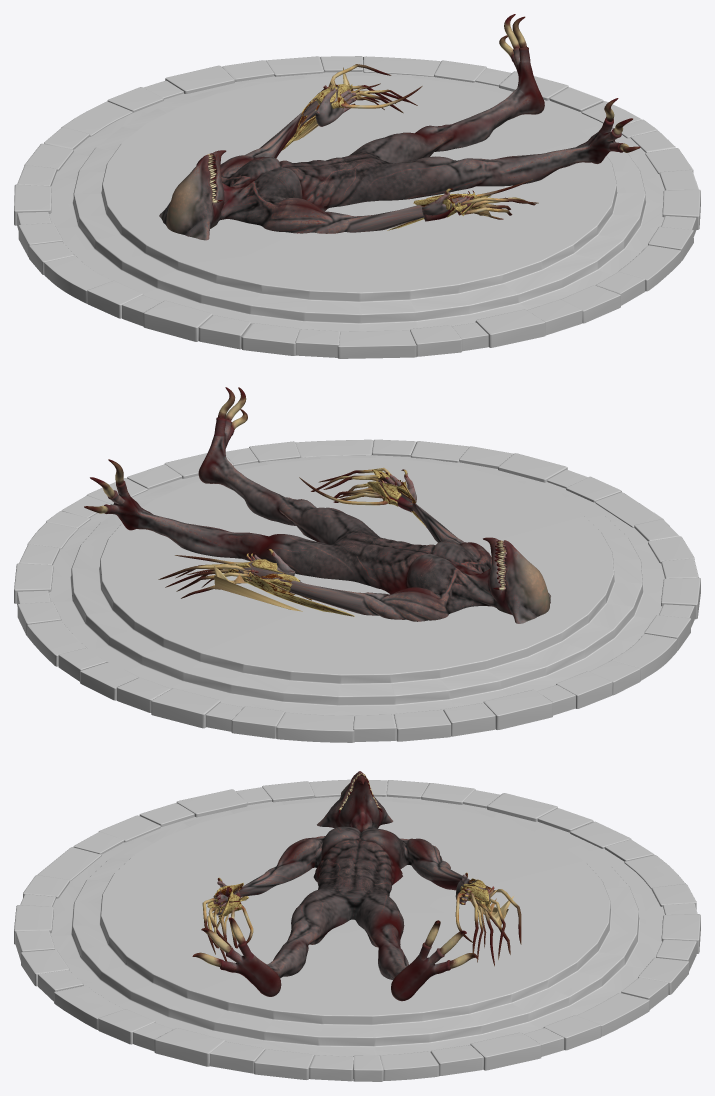
Rendered from DevilAltar.fbx.
3 views of the same model, one above another, from view 1: azimuth 30°, elevation 25°; view 2: azimuth 150°, elevation 25°; view 3: azimuth 270°, elevation 25° (orthographic).
Parts seen in each view (by area): view 1: StoneCircleFullCATA_LOD0, CircleStonesFullCATAM_LOD0, body.001; view 2: StoneCircleFullCATA_LOD0, CircleStonesFullCATAM_LOD0, body.001; view 3: StoneCircleFullCATA_LOD0, CircleStonesFullCATAM_LOD0, body.001.
Boxes of the visible parts, x1,y1,x2,y2 form: StoneCircleFullCATA_LOD0: (49,71,664,331); CircleStonesFullCATAM_LOD0: (14,56,700,358); body.001: (159,14,640,240); StoneCircleFullCATA_LOD0: (49,455,664,715); CircleStonesFullCATAM_LOD0: (14,439,700,742); body.001: (84,387,550,623); StoneCircleFullCATA_LOD0: (50,796,664,1056); CircleStonesFullCATAM_LOD0: (14,779,700,1081); body.001: (192,771,521,1001).
Bounding box in the file's own units: 489 × 121 × 490.
